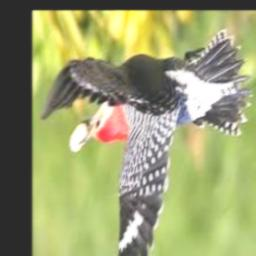Woodpecker: (41, 30, 253, 256)
